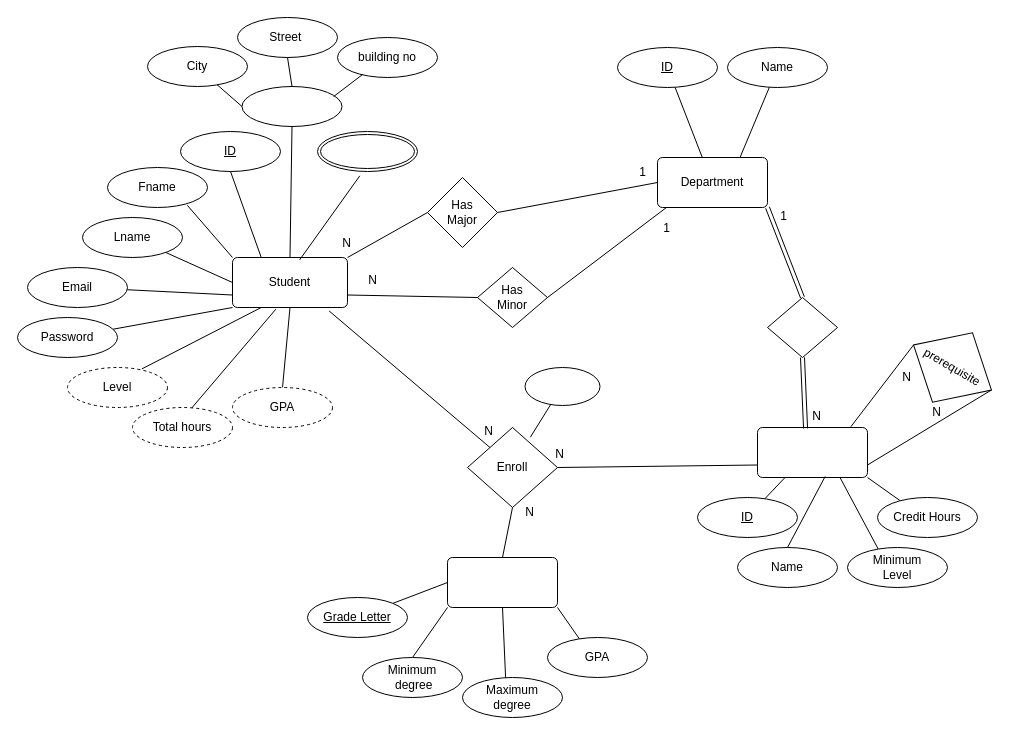
Some shapes in this 1030 by 735 pixel diagram are drawn without their labels. The box of each missing label's shape, as (x1, y1, x2, y2) in pixels:
Address: (241, 86, 342, 126)
Course: (756, 426, 868, 478)
Grades: (446, 556, 558, 608)
Offer: (766, 296, 838, 358)
Phone: (316, 130, 418, 172)
Year: (524, 366, 600, 406)
